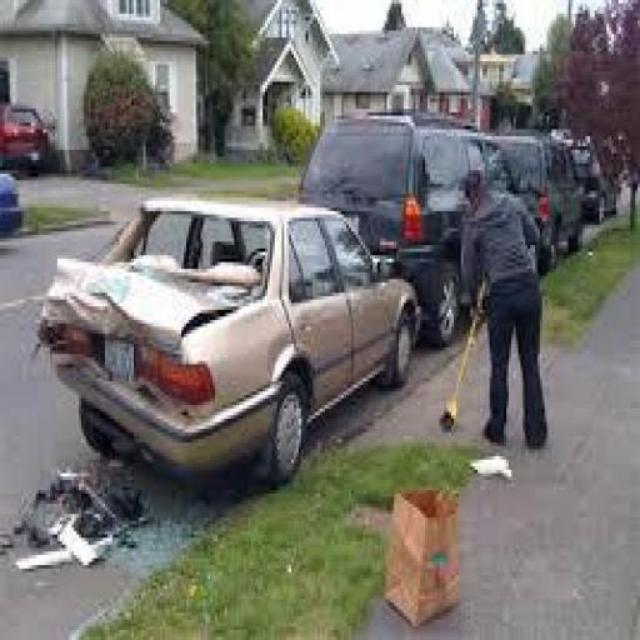dislocated part: (42, 258, 256, 366)
glass shatter: (100, 207, 278, 288), (324, 211, 380, 290)
